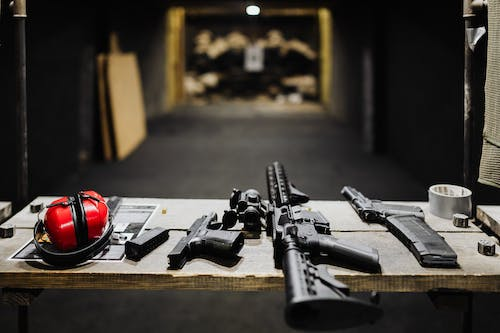gun: (227, 159, 384, 333), (163, 210, 247, 271), (336, 182, 427, 225)
